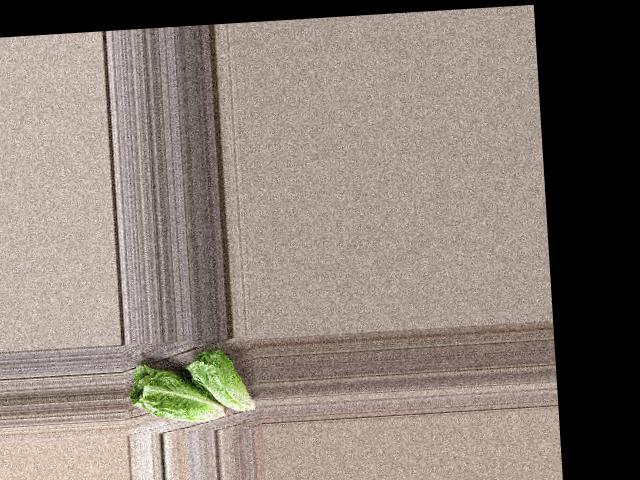lettuce: (183, 341, 260, 417)
